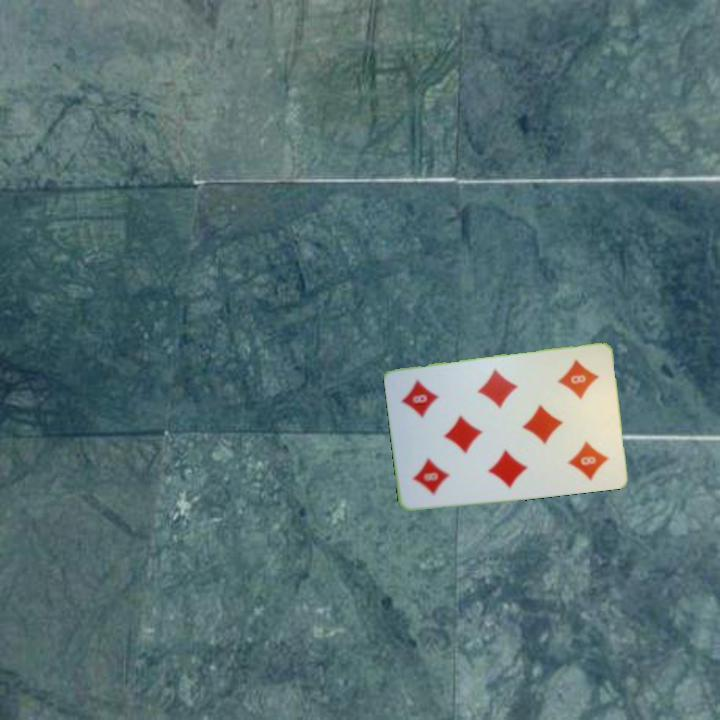d_8.png: (400, 430, 465, 503), (546, 352, 610, 425)
